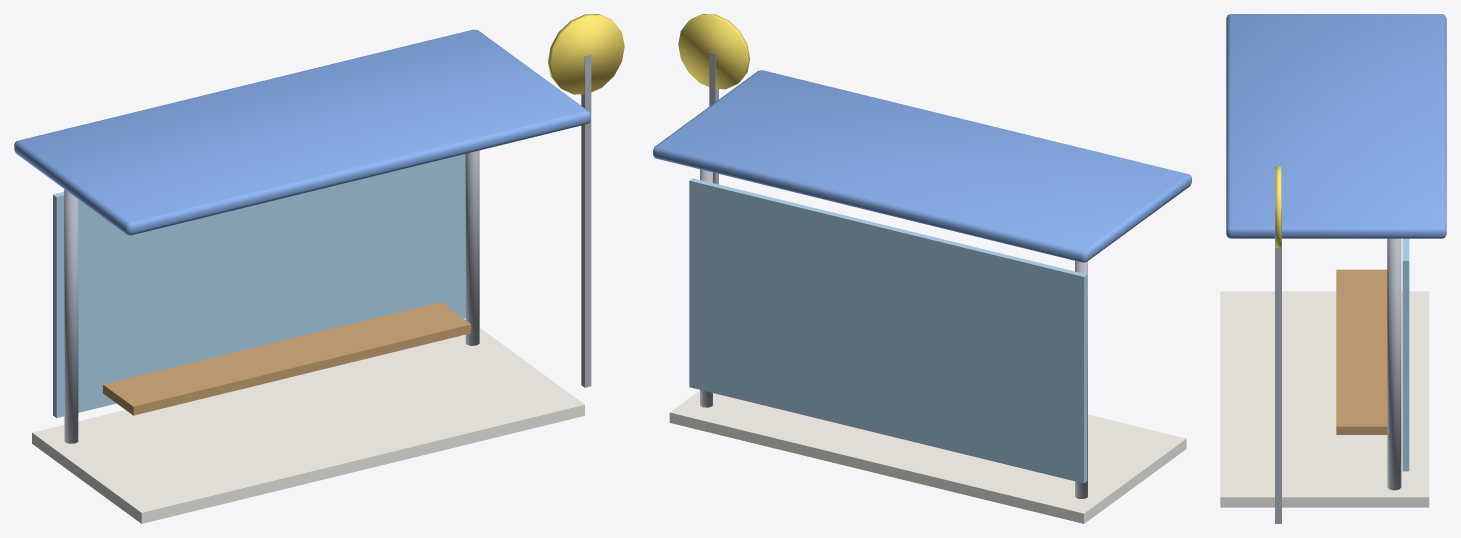
File: Prop_BusStop.fbx
3 renders of one model, left to right at view 1: azimuth 30°, elevation 25°; view 2: azimuth 150°, elevation 25°; view 3: azimuth 270°, elevation 25°, orthographic. The views are drawn at different scales.
Visible parts, largest first — view 1: Prop_BusStop; view 2: Prop_BusStop; view 3: Prop_BusStop.
Part boxes in pixels (left/top/right/bottom): Prop_BusStop: left=14, top=14, right=624, bottom=523; Prop_BusStop: left=653, top=14, right=1191, bottom=523; Prop_BusStop: left=1220, top=14, right=1446, bottom=523.
Size of the model in its own units: 4.95 by 3.35 by 1.95.
